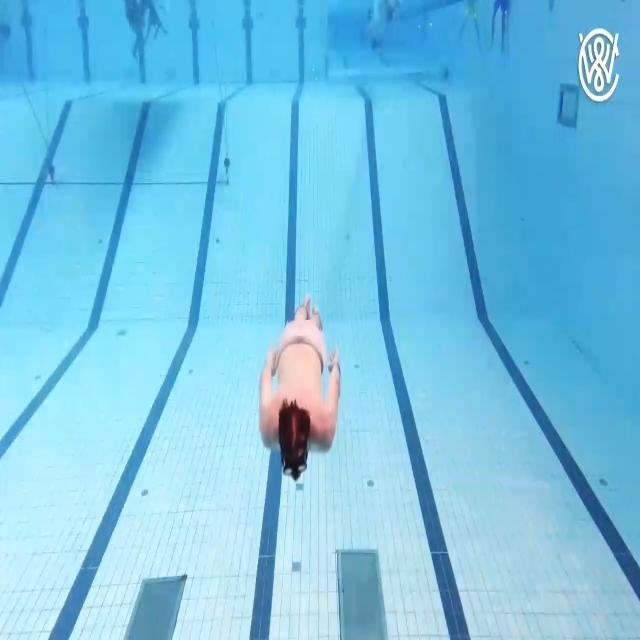Swimming: (257, 289, 344, 483)
